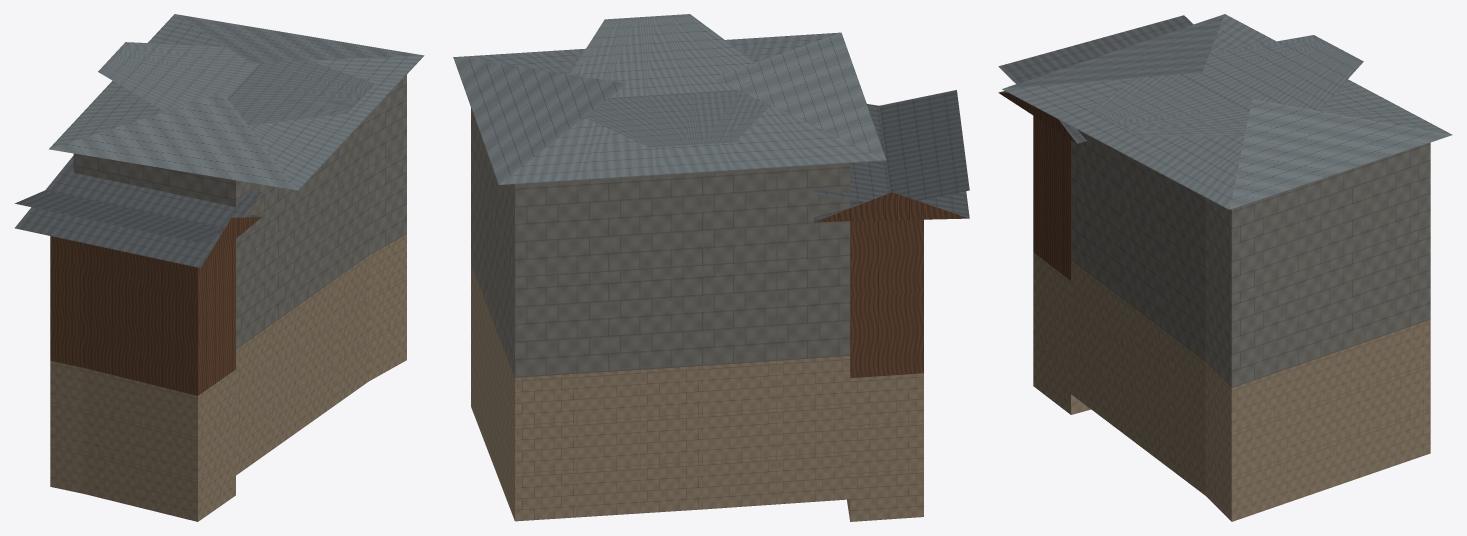
File: bld_c41_-10_497.gltf
3 renders of one model, left to right at view 1: azimuth 30°, elevation 25°; view 2: azimuth 150°, elevation 25°; view 3: azimuth 270°, elevation 25°, orthographic. The views are drawn at different scales.
Parts seen in each view (by area): view 1: bld_c41_-10_497; view 2: bld_c41_-10_497; view 3: bld_c41_-10_497.
Part boxes in pixels (x1,y1,x2,y2): bld_c41_-10_497: [15, 14, 424, 521]; bld_c41_-10_497: [453, 14, 969, 521]; bld_c41_-10_497: [998, 14, 1452, 521].
Size of the model in its own units: 18.28 by 14 by 15.69.
Materials: 6 (6 with a texture image).
